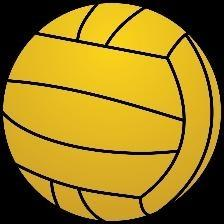Sports-Ball: (3, 2, 224, 224)
